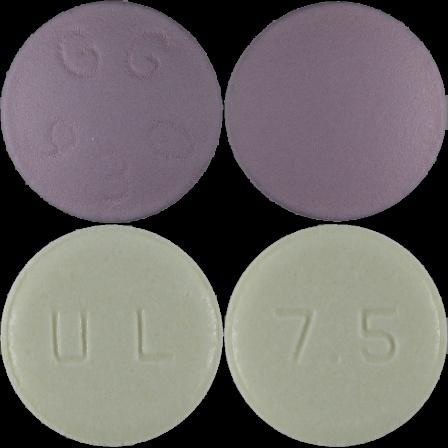63629-3233: (0, 0, 224, 224)
